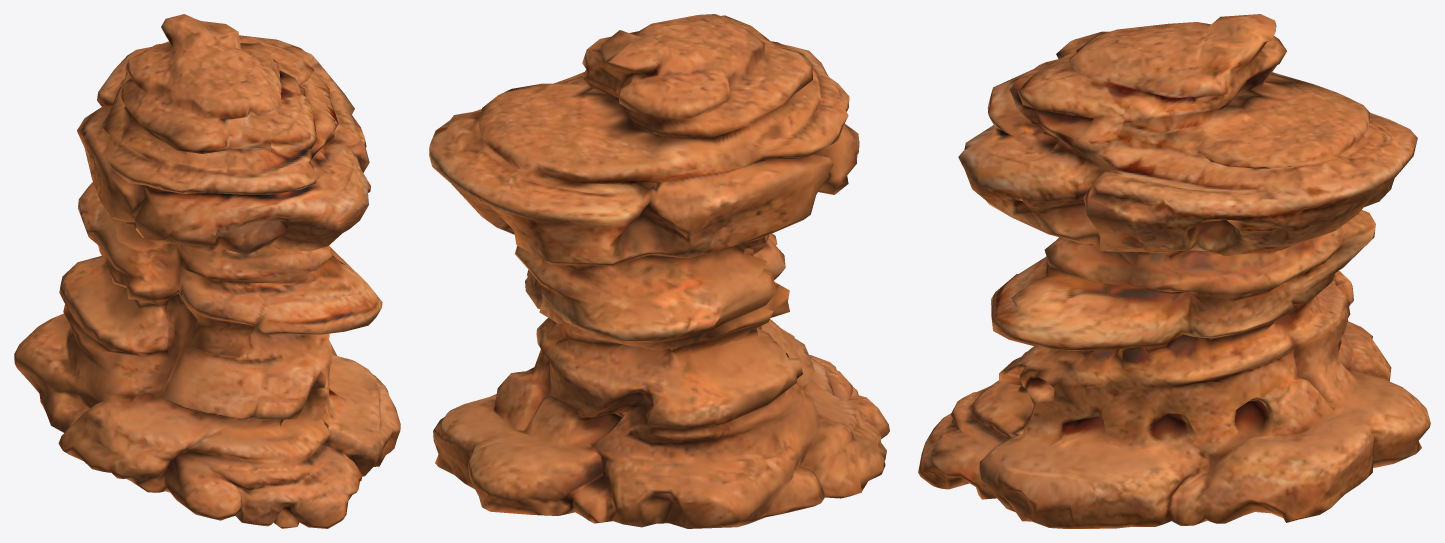
File: spire_0.gltf
The picture shows the model from 3 angles, left to right: view 1: azimuth 30°, elevation 25°; view 2: azimuth 150°, elevation 25°; view 3: azimuth 270°, elevation 25°; orthographic projection. The views are drawn at different scales.
Visible parts, largest first — view 1: spire_0; view 2: spire_0; view 3: spire_0.
Boxes of the visible parts, box(x1,y1,x2,y2) form: spire_0: box(14, 14, 400, 528); spire_0: box(429, 14, 889, 528); spire_0: box(918, 14, 1430, 528).
Bounding box in the file's own units: 31.69 × 39.67 × 40.28.
Materials: 1 (1 with a texture image).
